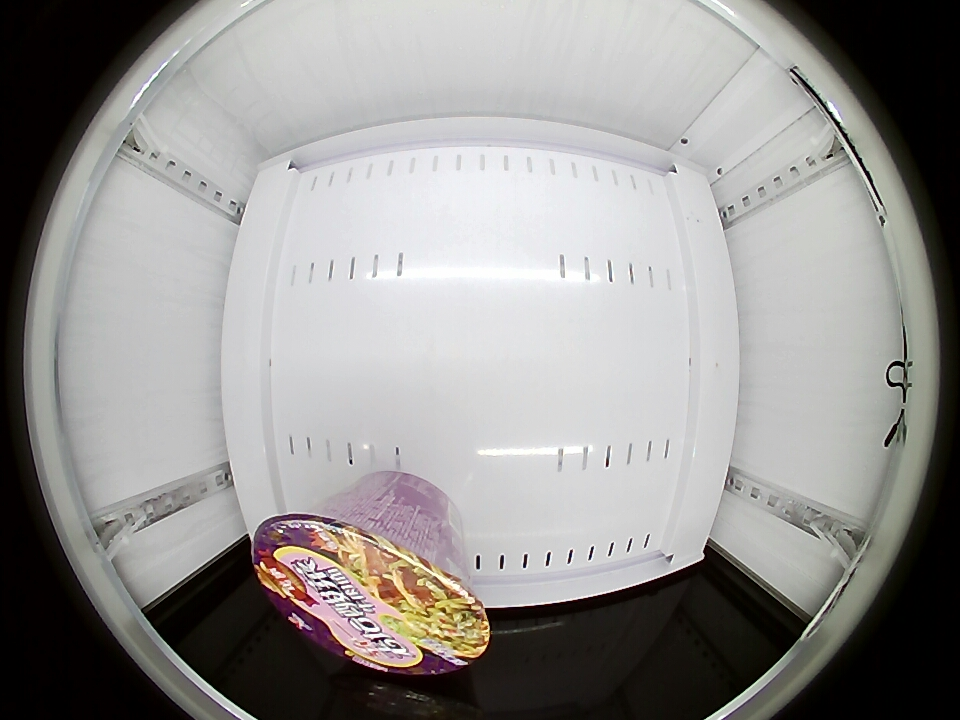laotansuancai: (252, 510, 489, 676)
